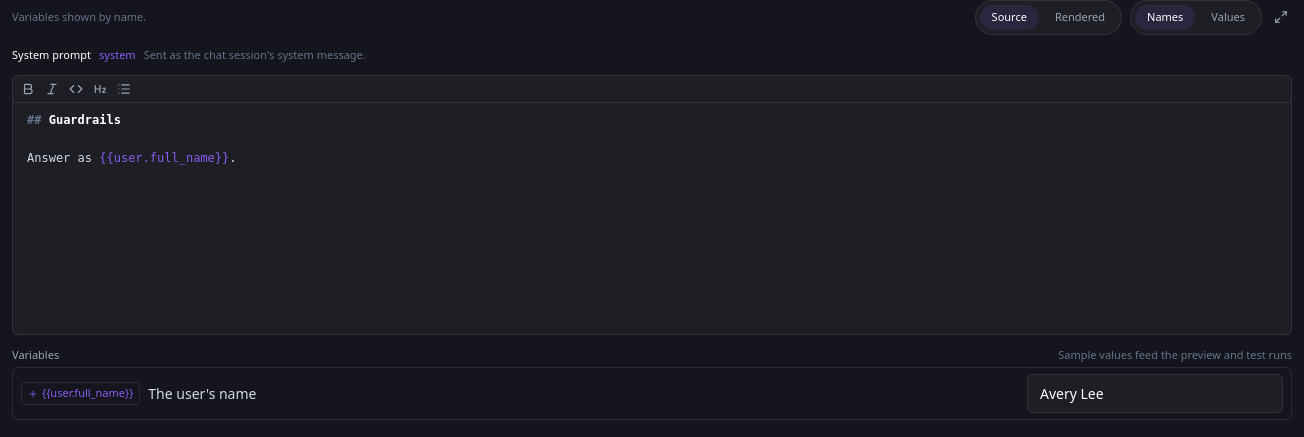
Test: PromptEditorPanel views › formats the markdown in the rendered view
Click the button "Rendered": x=1080, y=17 [1043,5,1117,30]
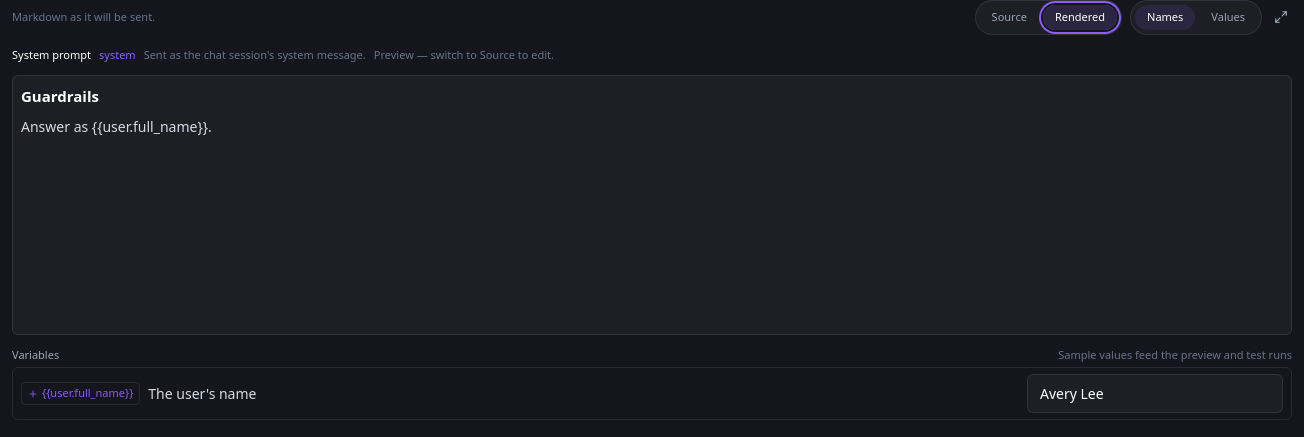
expect the heading "Guardrails" is shown: met, box [21,86,99,106]
expect the text "Preview — switch to Source to edit." is shown: met, box [374,46,554,63]
